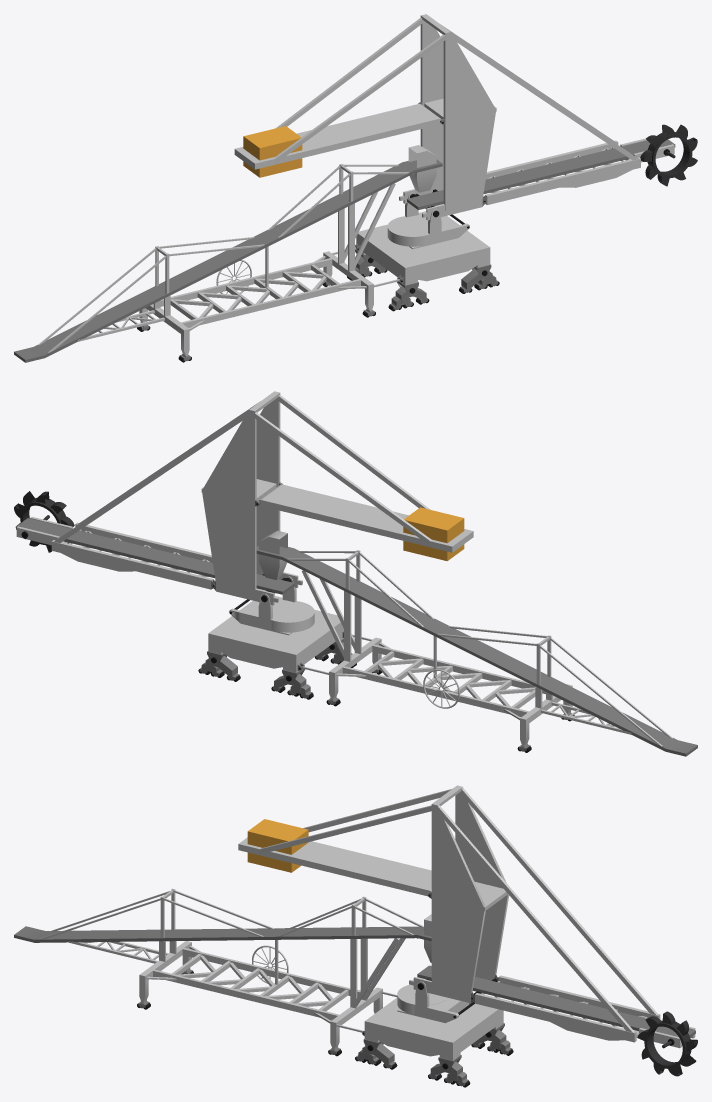
The model's file is dushangang1209.fbx.
The picture shows the model from 3 angles, top to bottom: view 1: azimuth 30°, elevation 25°; view 2: azimuth 150°, elevation 25°; view 3: azimuth 330°, elevation 25°; orthographic projection. The views are drawn at different scales.
Visible parts, largest first — view 1: budong, zhijia, pidai, zhuanzhou, doulun2; view 2: budong, zhijia, pidai, zhuanzhou, doulun2; view 3: zhijia, budong, pidai, zhuanzhou, doulun2.
Boxes of the visible parts, x1,y1,x2,y2 form: budong: (14, 145, 499, 362); zhijia: (234, 14, 674, 220); pidai: (407, 139, 675, 209); zhuanzhou: (387, 192, 469, 249); doulun2: (640, 124, 697, 186); budong: (198, 530, 697, 756); zhijia: (16, 391, 473, 605); pidai: (16, 518, 294, 594); zhuanzhou: (229, 576, 314, 635); doulun2: (14, 491, 74, 552); zhijia: (238, 785, 695, 1048); budong: (14, 888, 513, 1087); pidai: (417, 965, 695, 1037); zhuanzhou: (397, 979, 474, 1023); doulun2: (637, 1011, 697, 1076).
Size of the model in its own units: 937 by 345 by 126.
